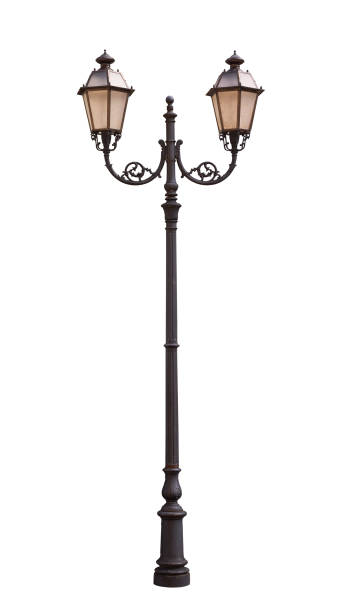light_pole: (142, 96, 197, 586)
